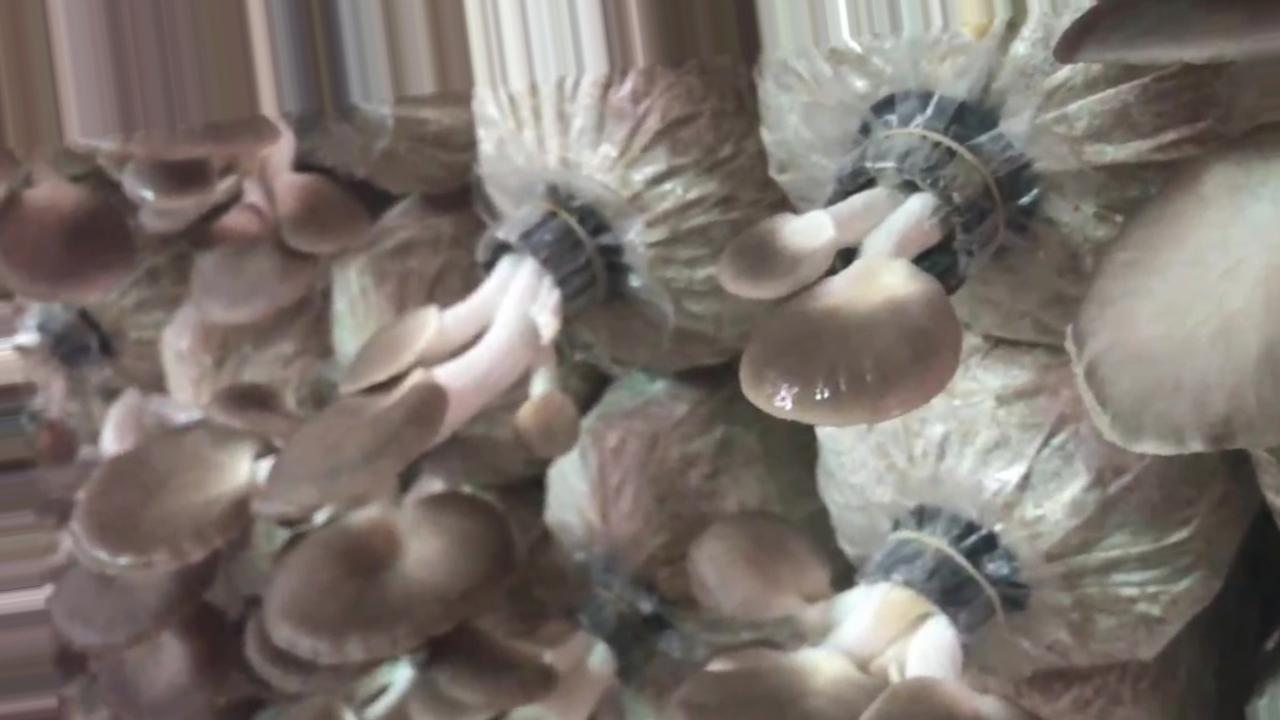nam: (267, 205, 609, 512), (717, 121, 1017, 428), (678, 512, 1023, 720), (1070, 120, 1280, 457), (256, 492, 510, 670)
